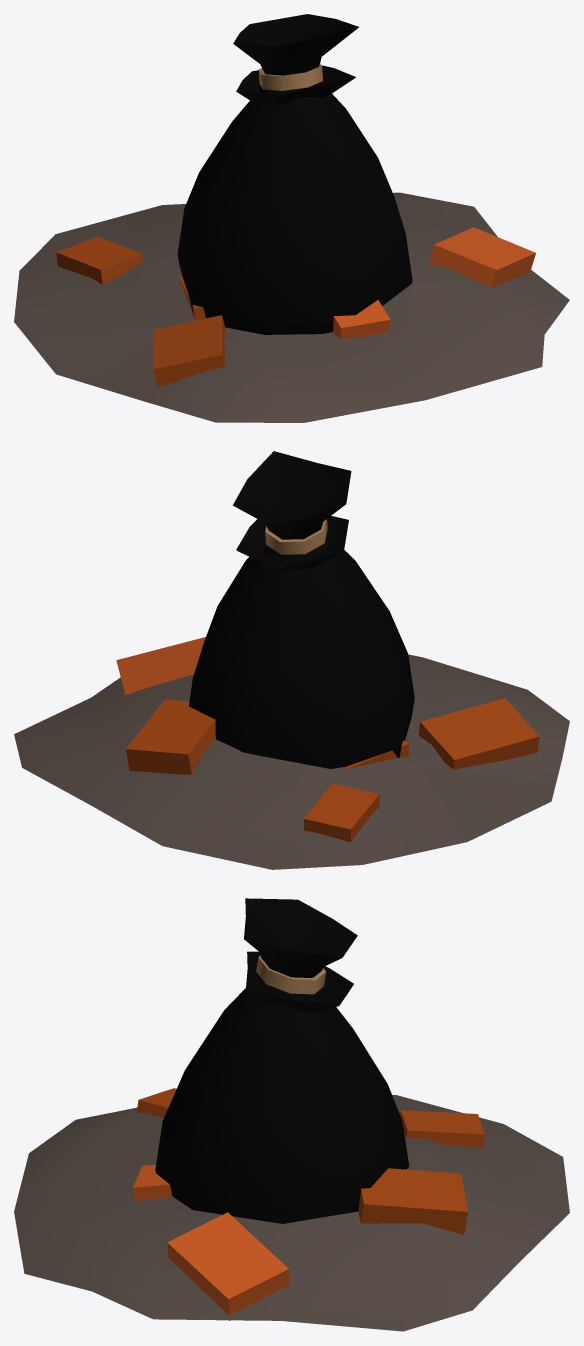
The model's file is StreetTrash01.fbx.
3 renders of one model, top to bottom at view 1: azimuth 30°, elevation 25°; view 2: azimuth 150°, elevation 25°; view 3: azimuth 270°, elevation 25°, orthographic. The views are drawn at different scales.
Parts seen in each view (by area): view 1: PileOfDirt01, TrashBag02, TrashBag01; view 2: PileOfDirt01, TrashBag02, TrashBag01; view 3: PileOfDirt01, TrashBag02, TrashBag01.
Part boxes in pixels (x1,y1,x2,y2): PileOfDirt01: [14, 192, 569, 422]; TrashBag02: [177, 14, 412, 334]; TrashBag01: [236, 65, 355, 105]; PileOfDirt01: [14, 637, 569, 869]; TrashBag02: [189, 451, 414, 768]; TrashBag01: [236, 516, 348, 572]; PileOfDirt01: [14, 1088, 569, 1331]; TrashBag02: [155, 898, 409, 1223]; TrashBag01: [245, 951, 353, 1012].
Size of the model in its own units: 206 by 116 by 195.
